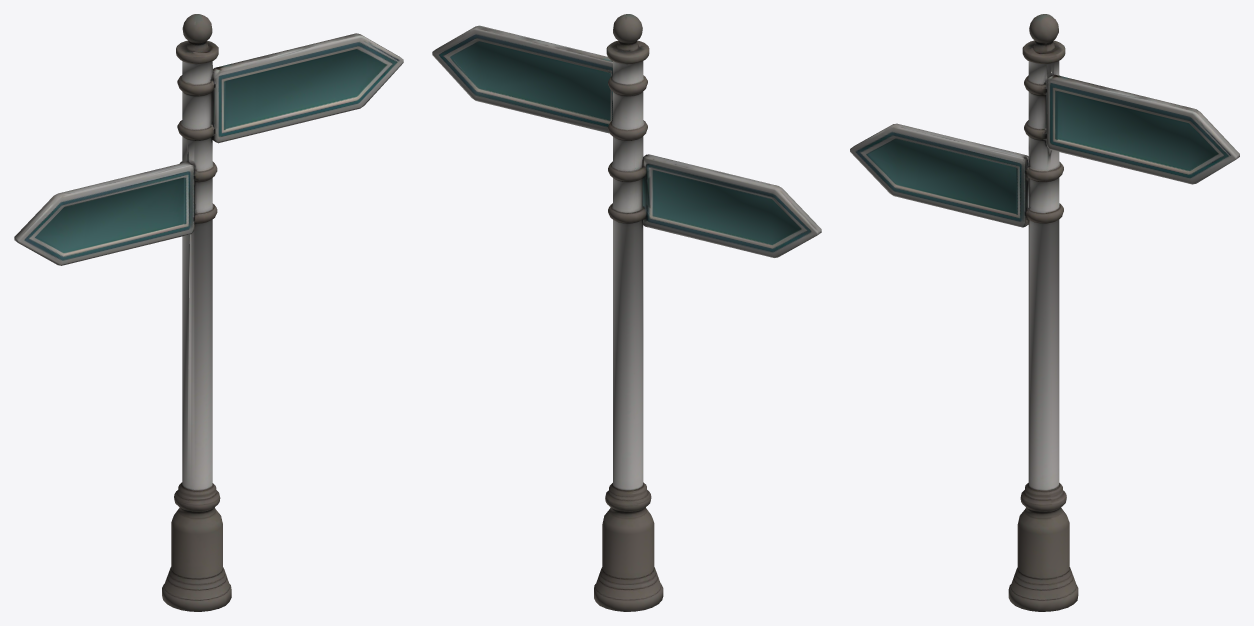
Rendered from Outdoor__signpost_realistic_style_b01d10de_v3.cluster.glb.
3 renders of one model, left to right at view 1: azimuth 30°, elevation 25°; view 2: azimuth 150°, elevation 25°; view 3: azimuth 330°, elevation 25°, orthographic.
Visible parts, largest first — view 1: texture_pbr_20250901; view 2: texture_pbr_20250901; view 3: texture_pbr_20250901.
Part boxes in pixels (x1=…): texture_pbr_20250901: x1=14, y1=14, x2=403, y2=611; texture_pbr_20250901: x1=432, y1=14, x2=821, y2=611; texture_pbr_20250901: x1=850, y1=14, x2=1239, y2=611.
Bounding box in the file's own units: 1.32 × 1.9 × 0.2071.
Materials: 1 (1 with a texture image).
